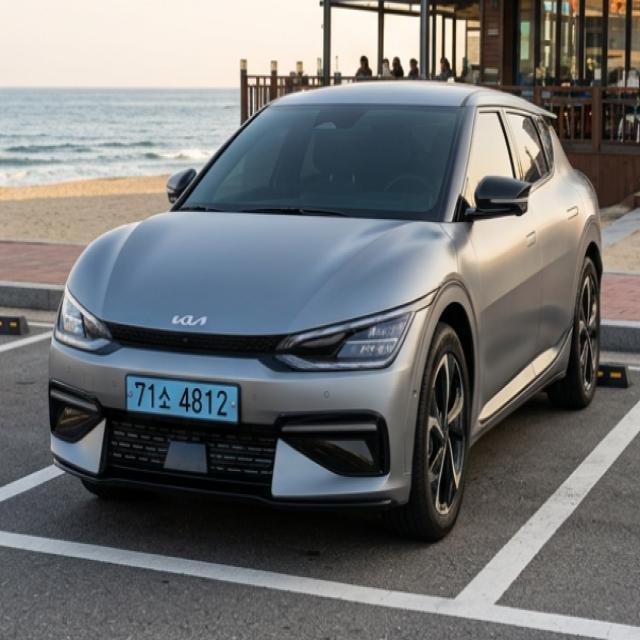car: (108, 358, 256, 437)
carev: (228, 383, 243, 428), (126, 371, 137, 419)
